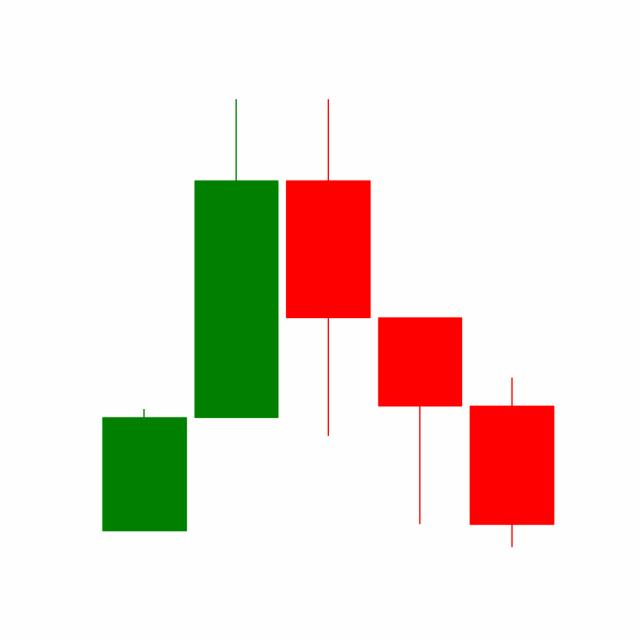Hammer: (373, 314, 467, 527)
